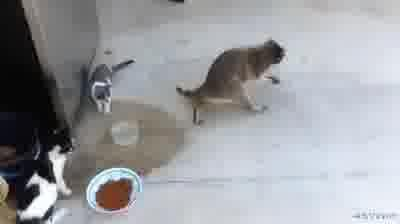raccoon: (176, 36, 286, 127)
